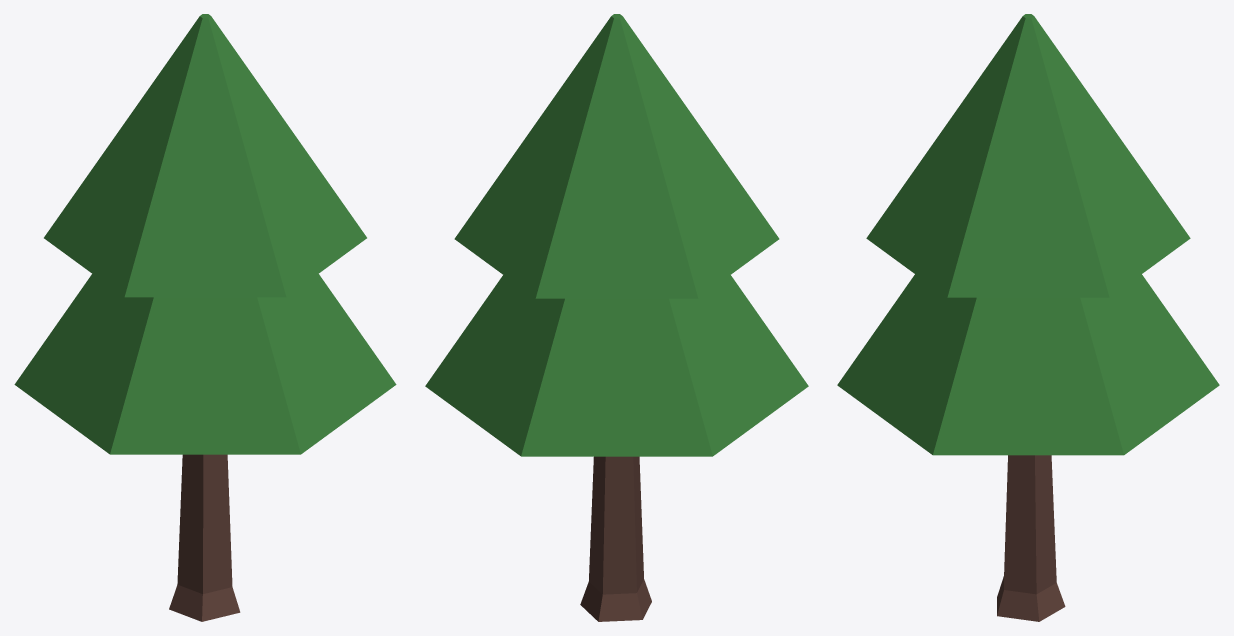
Rendered from Pinetree2.fbx.
3 views of the same model, side by side, from view 1: azimuth 30°, elevation 25°; view 2: azimuth 150°, elevation 25°; view 3: azimuth 270°, elevation 25° (orthographic).
Parts seen in each view (by area): view 1: Circle.006; view 2: Circle.006; view 3: Circle.006.
Boxes of the visible parts, box(x1,y1,x2,y2) form: Circle.006: box(14, 14, 396, 621); Circle.006: box(425, 14, 808, 621); Circle.006: box(837, 14, 1219, 621).
Bounding box in the file's own units: 176 × 346 × 203.
